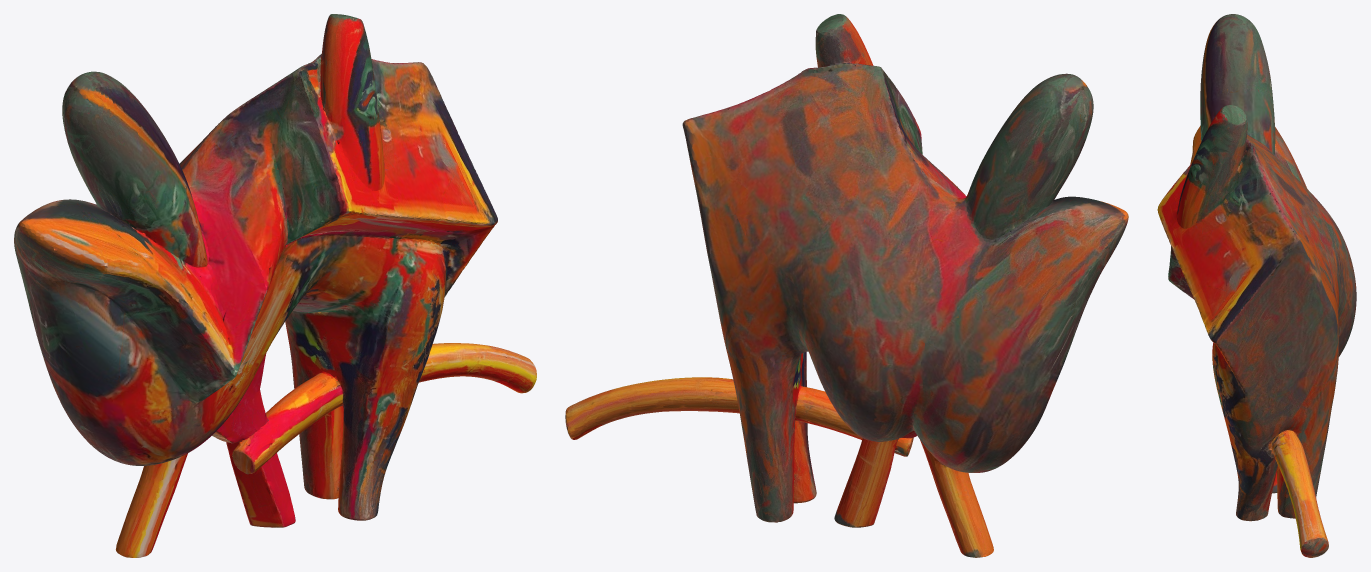
Rendered from irloAbstract1.glb.
3 renders of one model, left to right at view 1: azimuth 30°, elevation 25°; view 2: azimuth 150°, elevation 25°; view 3: azimuth 270°, elevation 25°, orthographic. The views are drawn at different scales.
Visible parts, largest first — view 1: irloAbstract1; view 2: irloAbstract1; view 3: irloAbstract1.
Boxes of the visible parts, x1,y1,x2,y2 form: irloAbstract1: (14, 14, 536, 557); irloAbstract1: (565, 14, 1128, 557); irloAbstract1: (1157, 14, 1356, 557).
Size of the model in its own units: 0.9998 by 0.8853 by 0.4009.
Materials: 1 (1 with a texture image).
